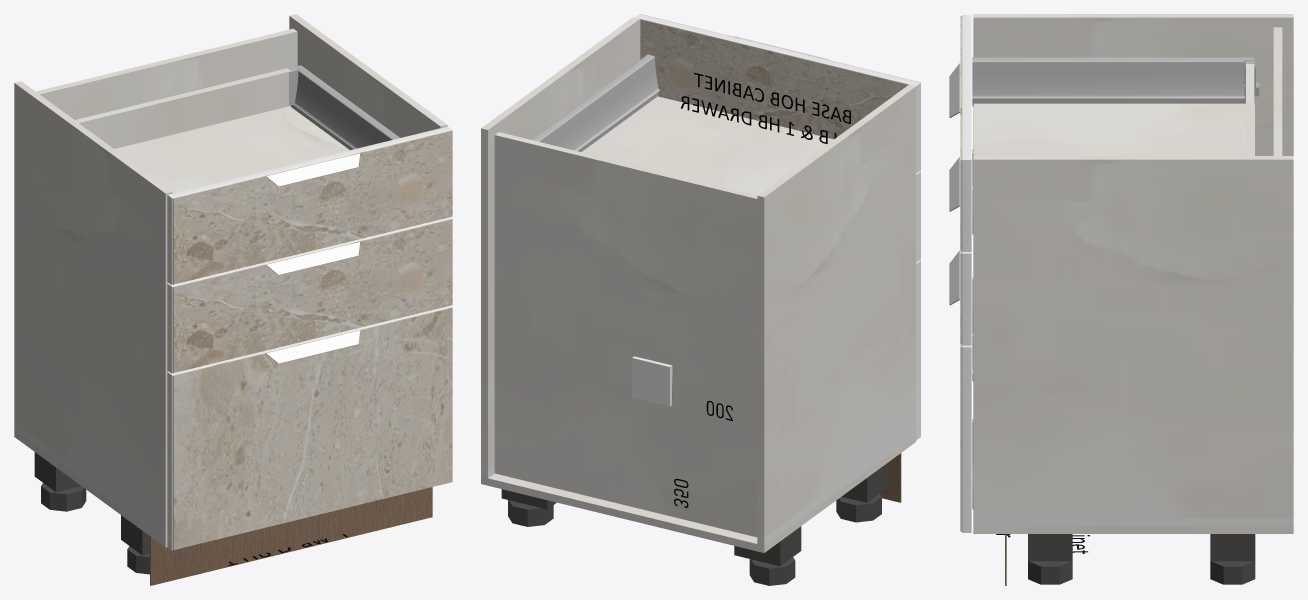
Rendered from BHC2EL1EH_EH (H720xW600xD560).glb.
The picture shows the model from 3 angles, left to right: view 1: azimuth 30°, elevation 25°; view 2: azimuth 150°, elevation 25°; view 3: azimuth 270°, elevation 25°; orthographic projection. The views are drawn at different scales.
Size of what is drawn, in the model's own units: 0.6 by 0.82 by 0.6.
11 materials, 3 textured.
